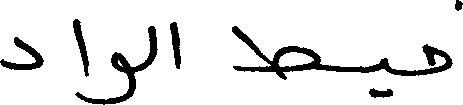X: (235, 21, 317, 84), (425, 0, 462, 79), (88, 47, 132, 104), (0, 32, 41, 74), (75, 14, 86, 104), (171, 17, 179, 73), (379, 53, 385, 102), (151, 21, 156, 68)
